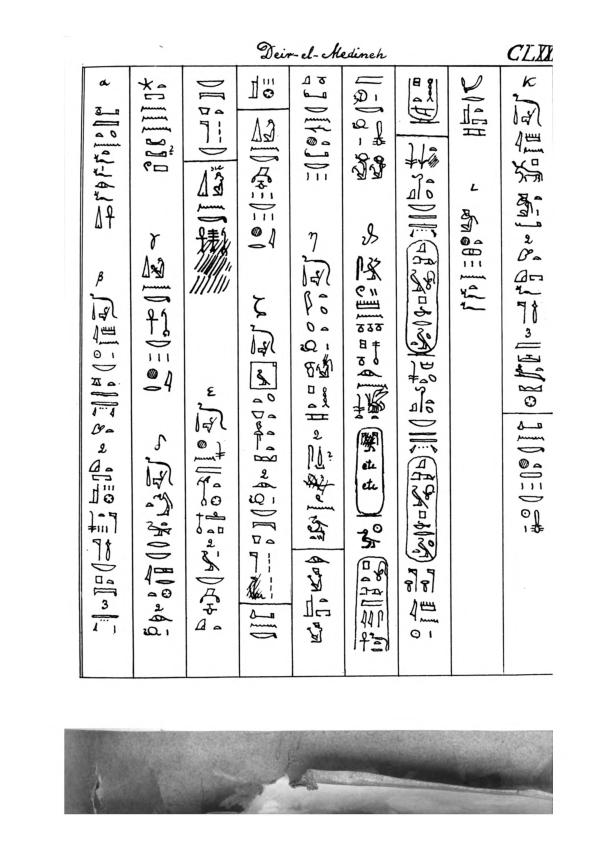circle: (404, 238, 439, 360), (354, 555, 393, 653), (405, 455, 440, 563), (354, 426, 385, 519), (404, 73, 440, 127)
